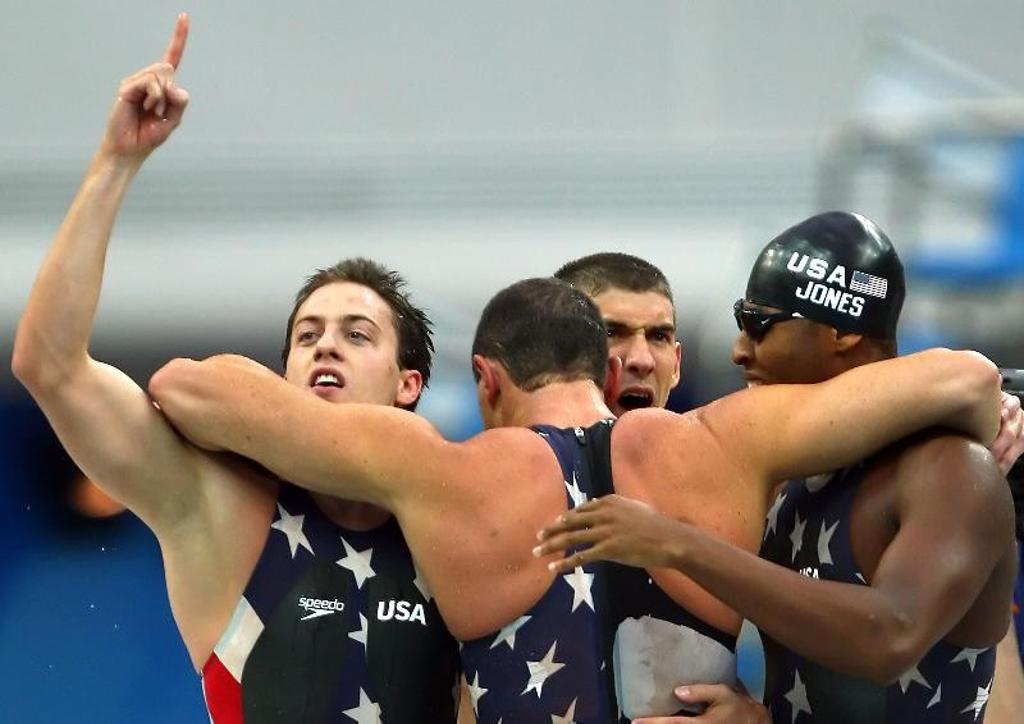face: (576, 296, 678, 424), (730, 280, 818, 416), (288, 302, 388, 416)
